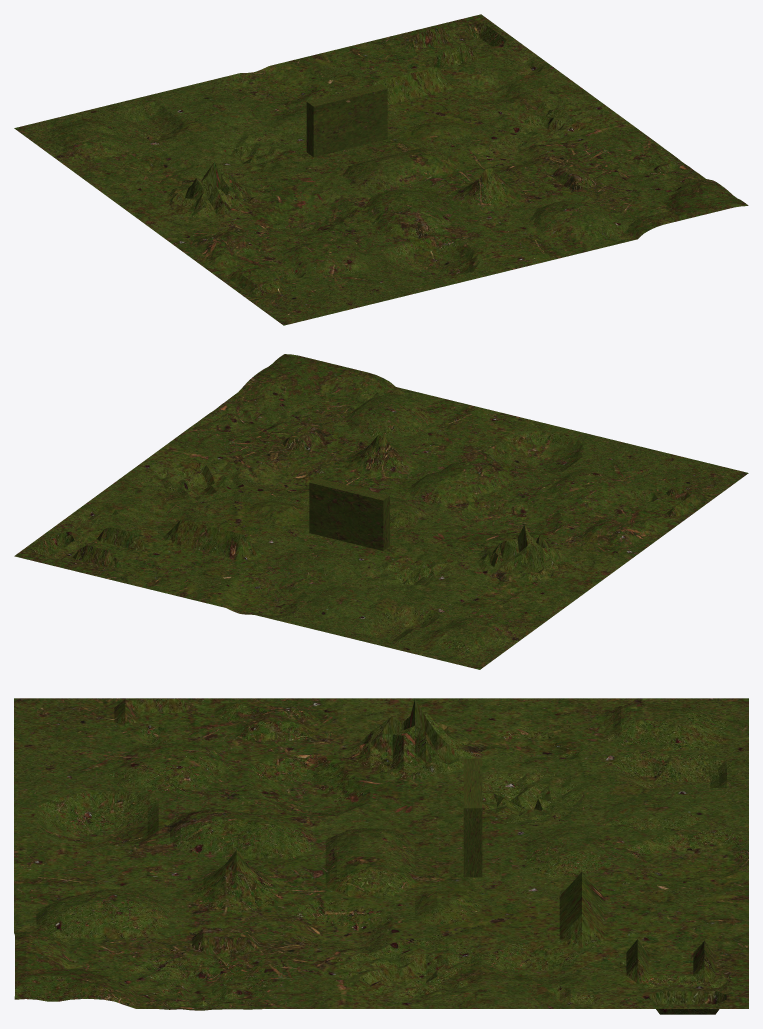
3 views of the same model, one above another, from view 1: azimuth 30°, elevation 25°; view 2: azimuth 150°, elevation 25°; view 3: azimuth 270°, elevation 25° (orthographic). The views are drawn at different scales.
Parts seen in each view (by area): view 1: 平面; view 2: 平面; view 3: 平面.
Part boxes in pixels (<box>): 平面: <box>14,14,748,325</box>; 平面: <box>14,354,748,669</box>; 平面: <box>14,698,748,1014</box>.
Size of the model in its own units: 95.76 by 95.66 by 12.51.
1 material, 1 textured.
